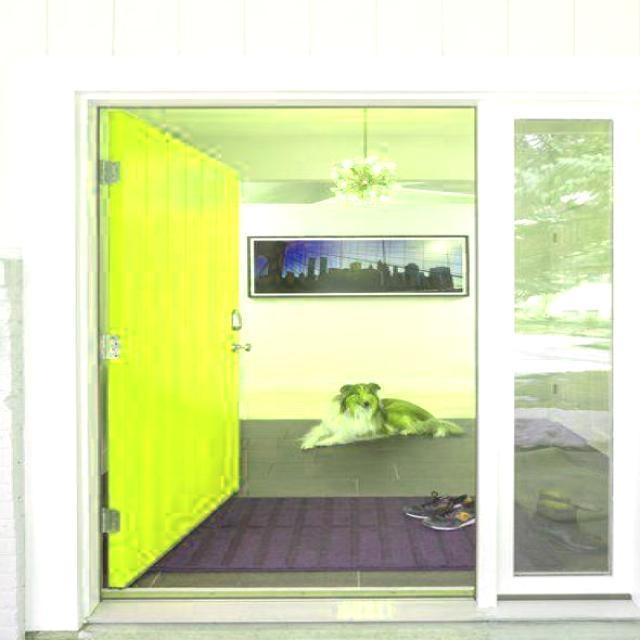door: (98, 107, 242, 589)
